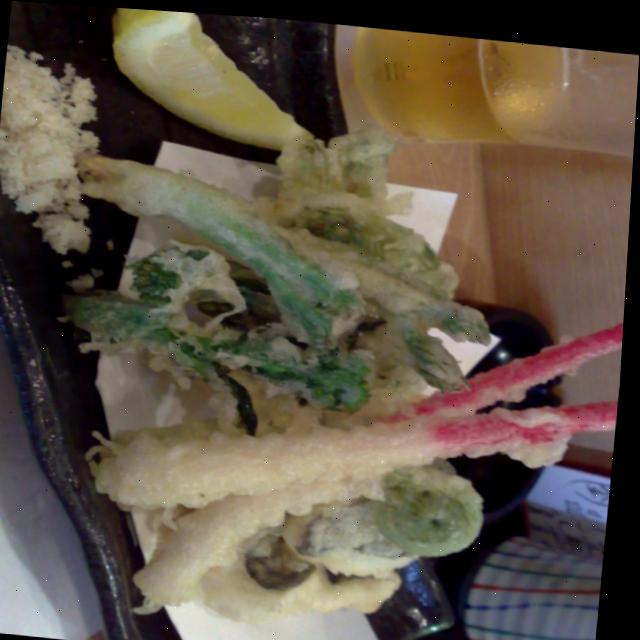蔬菜料理: (13, 91, 636, 640)
